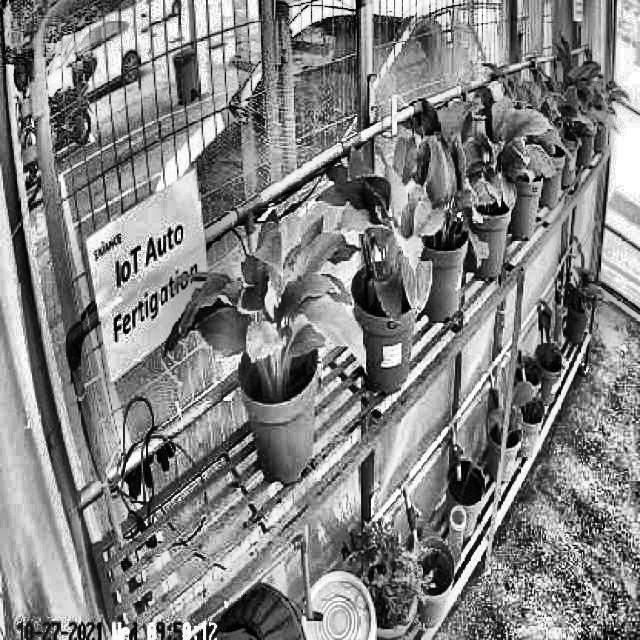plants: (170, 204, 364, 388), (392, 89, 488, 277), (330, 168, 436, 321), (456, 81, 554, 221)
